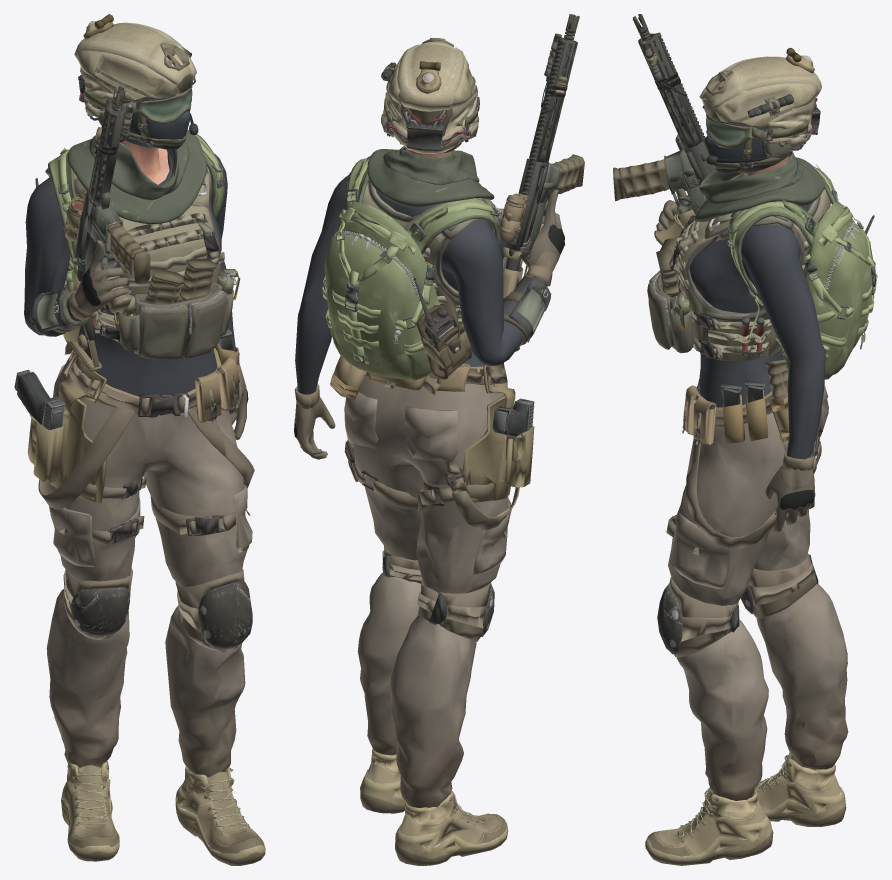
Rendered from soldier_girl.glb.
The picture shows the model from 3 angles, left to right: view 1: azimuth 30°, elevation 25°; view 2: azimuth 150°, elevation 25°; view 3: azimuth 270°, elevation 25°; orthographic projection. The views are drawn at different scales.
Parts seen in each view (by area): view 1: body, extras; view 2: body, extras; view 3: body, extras.
Boxes of the visible parts, x1,y1,x2,y2 form: body: (24, 14, 265, 865); extras: (14, 86, 240, 482); body: (294, 38, 565, 865); extras: (492, 14, 584, 487); body: (645, 47, 877, 865); extras: (613, 14, 788, 406).
Size of the model in its own units: 0.4924 by 1.7 by 0.5241.
Materials: 12 (12 with a texture image).
